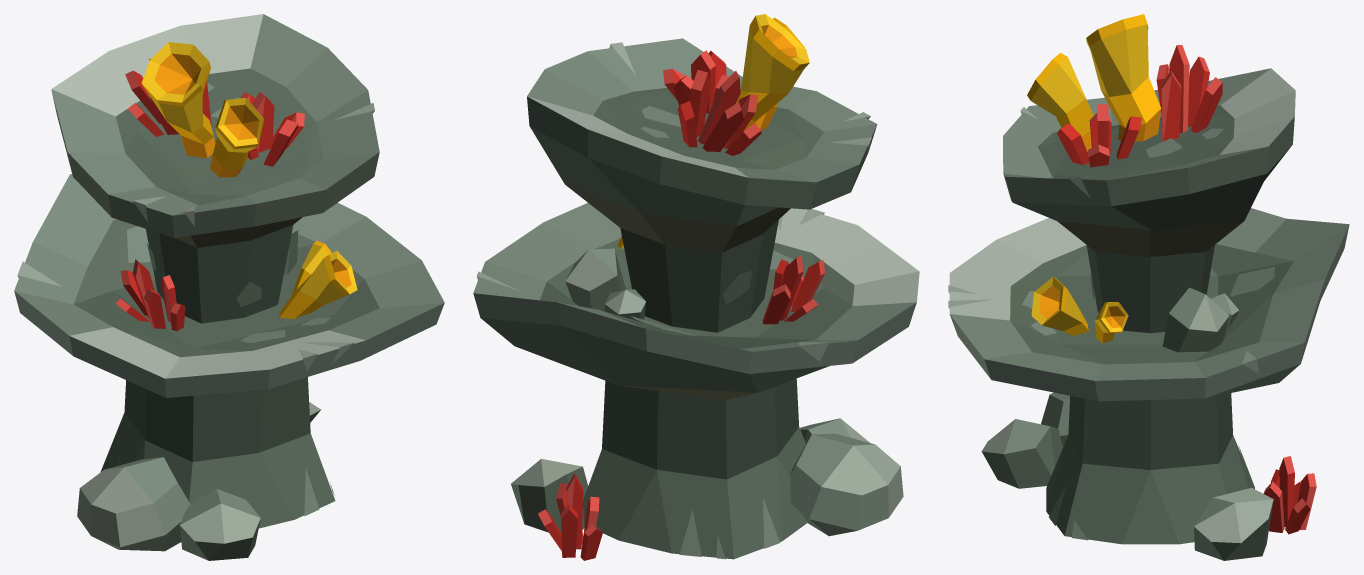
Rendered from CaveCoralRock.glb.
3 renders of one model, left to right at view 1: azimuth 30°, elevation 25°; view 2: azimuth 150°, elevation 25°; view 3: azimuth 270°, elevation 25°, orthographic. The views are drawn at different scales.
Visible parts, largest first — view 1: CaveCoralRock; view 2: CaveCoralRock; view 3: CaveCoralRock.
Part boxes in pixels (bbox=[...]): CaveCoralRock: bbox=[14, 14, 444, 560]; CaveCoralRock: bbox=[473, 14, 919, 560]; CaveCoralRock: bbox=[948, 14, 1349, 560].
Size of the model in its own units: 1.85 by 2.34 by 1.82.
Materials: 1 (1 with a texture image).
